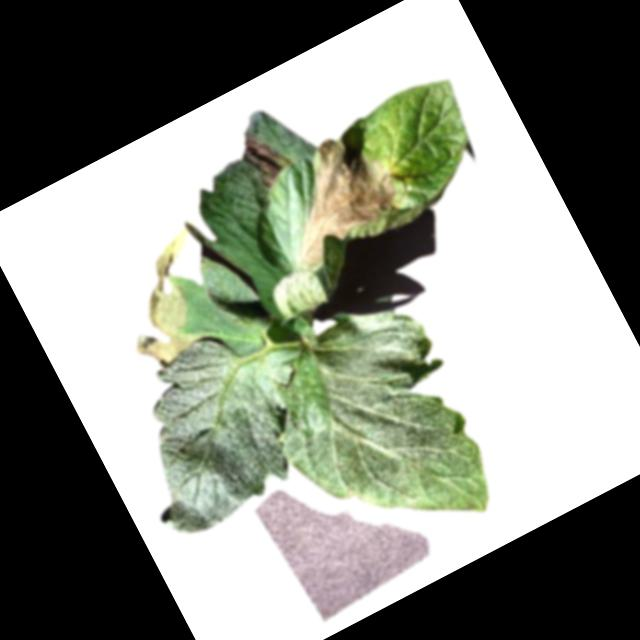Late_blight: (252, 120, 413, 277), (91, 222, 239, 375), (235, 121, 300, 193)
healthy: (237, 286, 514, 585), (93, 297, 361, 549)
